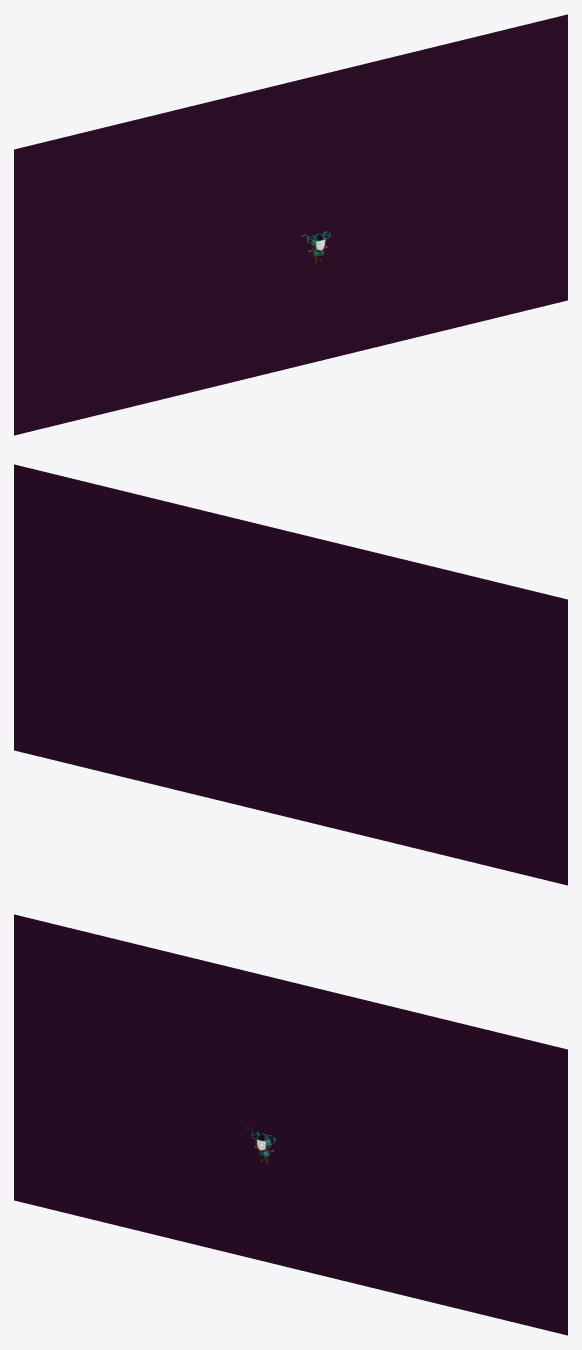
The model's file is Teddy_Fabric.glb.
3 renders of one model, top to bottom at view 1: azimuth 30°, elevation 25°; view 2: azimuth 150°, elevation 25°; view 3: azimuth 330°, elevation 25°, orthographic.
Parts seen in each view (by area): view 1: TeddyBackground; view 2: TeddyBackground; view 3: TeddyBackground.
Part boxes in pixels (<box>): TeddyBackground: <box>14,14,567,435</box>; TeddyBackground: <box>14,464,567,885</box>; TeddyBackground: <box>14,914,567,1335</box>.
Size of the model in its own units: 873 by 431 by 85.35.
4 materials, 2 textured.
